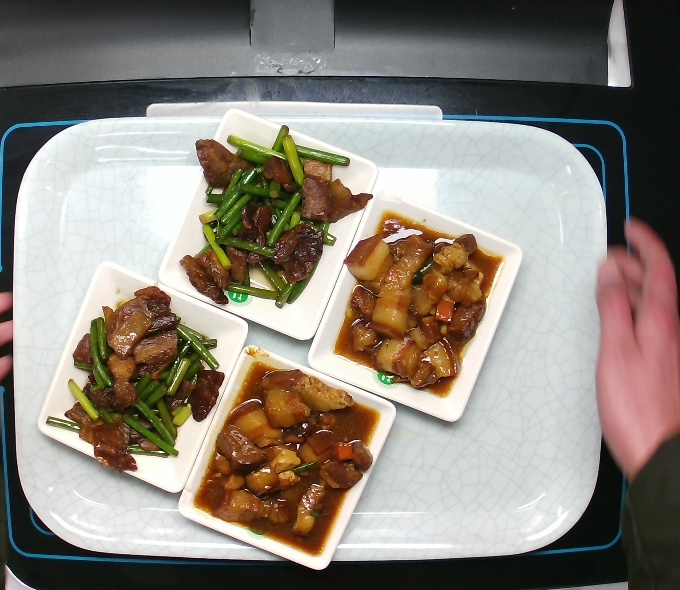wcq-HongShaoRou: (202, 364, 375, 542), (339, 223, 494, 395)
wcq-SuanMiaoChaoRou: (176, 122, 375, 311), (44, 284, 228, 470)
